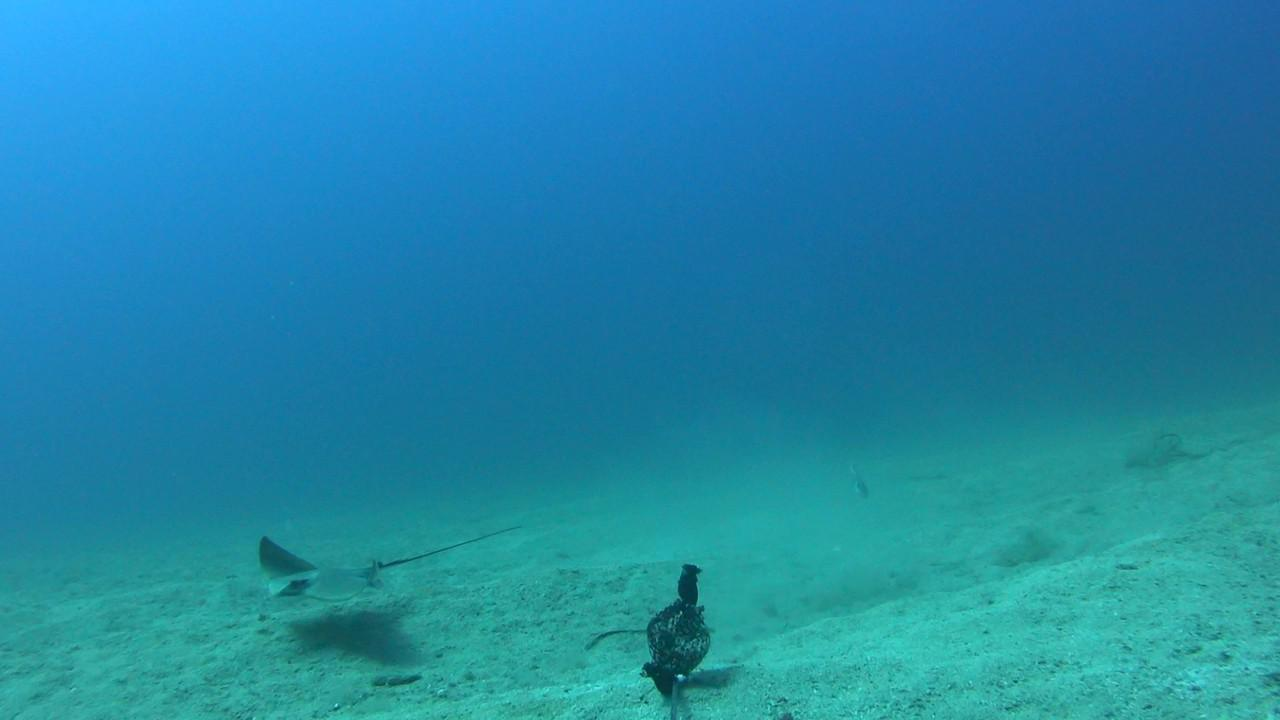myliobatis: (223, 496, 539, 612)
